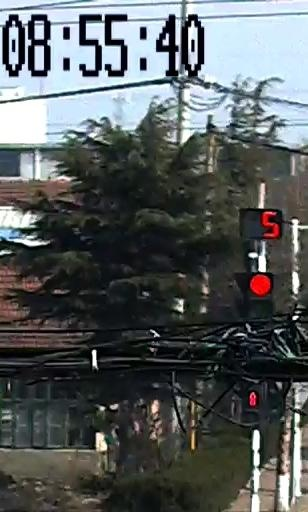red: (253, 269, 278, 300)
redpeople: (246, 389, 261, 408)
redtime: (252, 209, 284, 244)
